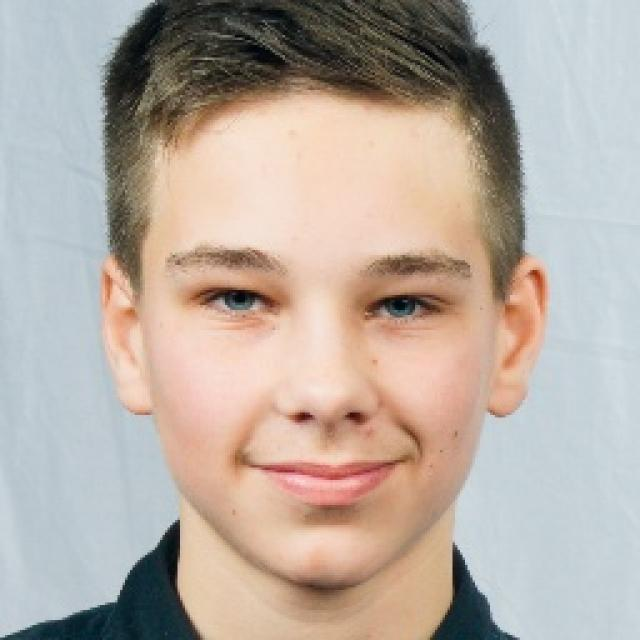earlobe: (487, 359, 536, 417), (110, 357, 151, 415)
eye: (197, 283, 276, 321), (364, 291, 447, 324)
nose: (278, 405, 379, 453)
wholeear: (487, 257, 548, 415), (100, 257, 152, 414)
